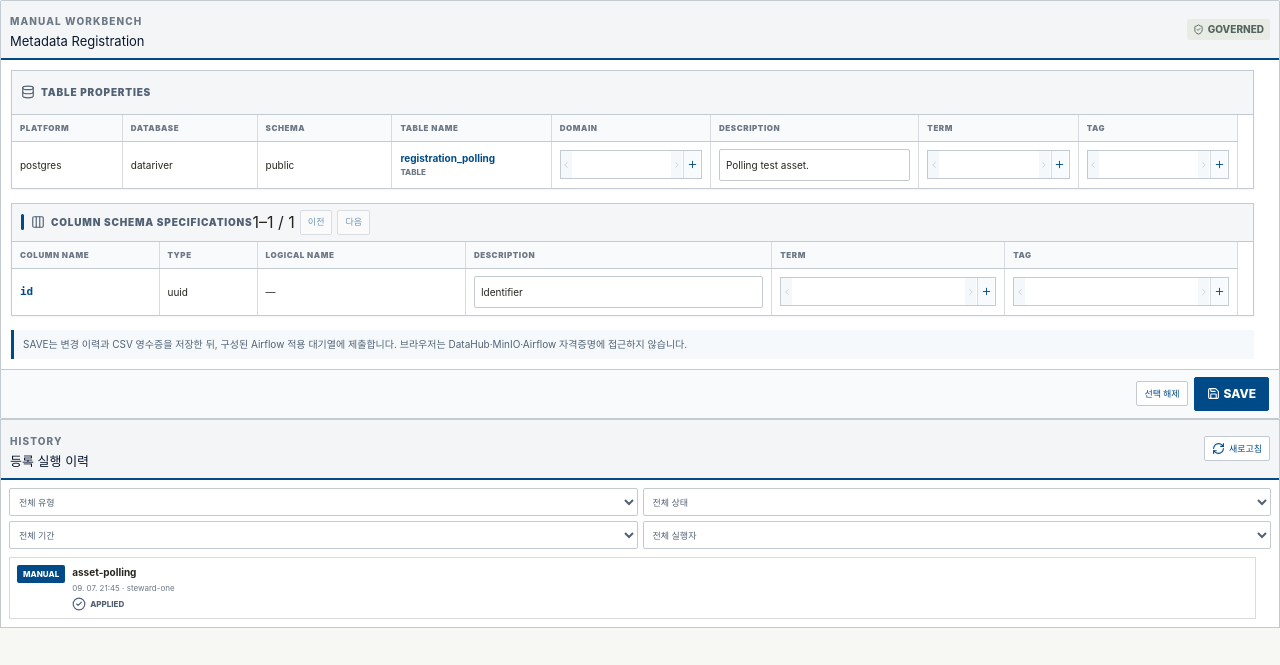
Scenario: Registration workbench › keeps the current Manual poll alive while an older unified receipt opens
Expected: the button "MANUAL asset-polling 09. 07. 21:45 · steward-one APPLIED" is shown, [9,557,1256,619]
Click the button "SAVE". click: (1231,394)
box: [1194,376,1269,410]
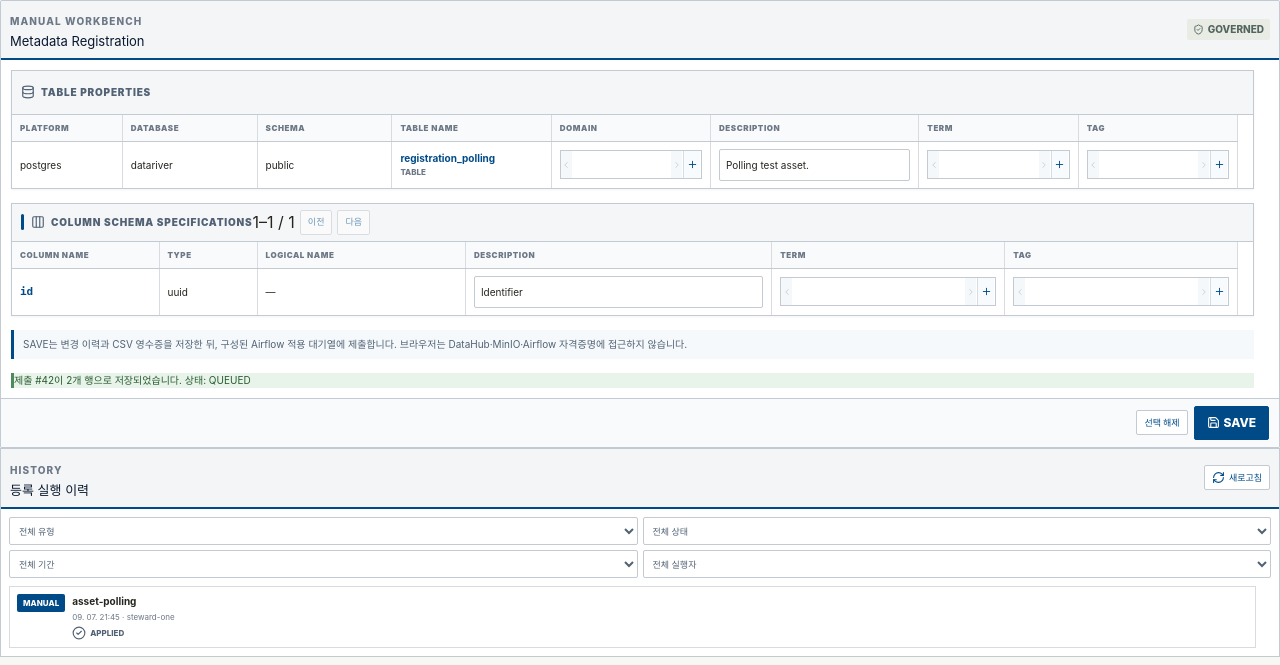
Expected: the text "제출 #42이 2개 행으로 저장되었습니다. 상태: QUEUED" is shown, [11,372,1254,388]
Click the button "MANUAL asset-polling 09. 07. 21:45 · steward-one APPLIED". click: (41,603)
box: [9,586,1256,648]
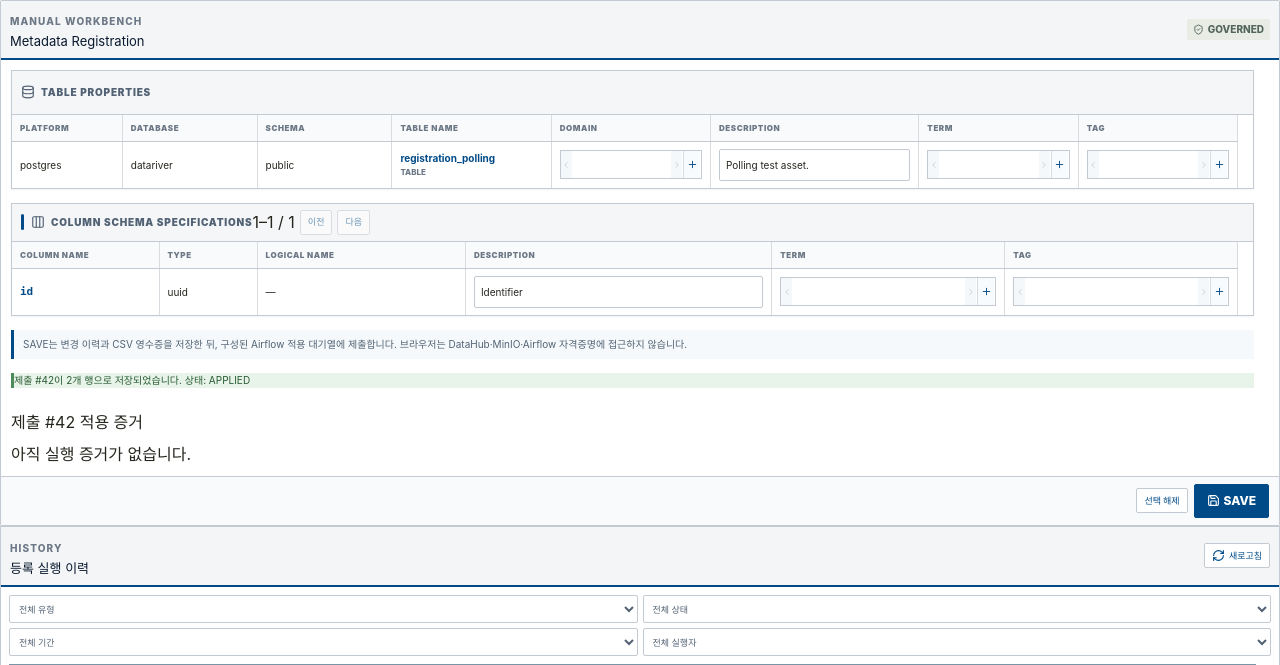
Expected: the text "제출 #42이 2개 행으로 저장되었습니다. 상태: APPLIED" is shown, [11,372,1254,388]
